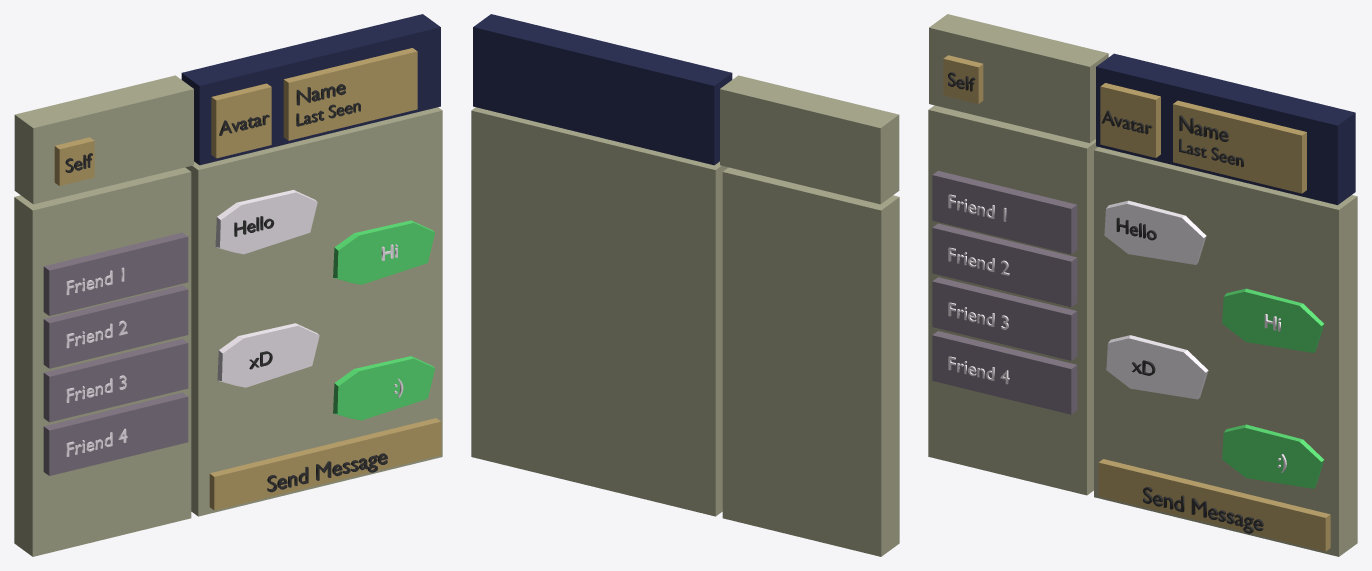
The model's file is chat.glb.
The picture shows the model from 3 angles, left to right: view 1: azimuth 30°, elevation 25°; view 2: azimuth 150°, elevation 25°; view 3: azimuth 330°, elevation 25°; orthographic projection.
Parts seen in each view (by area): view 1: back, Text.012; view 2: back; view 3: back, Text.012.
Boxes of the visible parts, <box> form: back: <box>14,14,442,556</box>; Text.012: <box>267,453,387,492</box>; back: <box>471,14,899,556</box>; back: <box>928,14,1357,556</box>; Text.012: <box>1143,487,1263,533</box>.
Size of the model in its own units: 6.89 by 6.91 by 0.8607.
